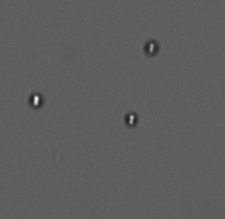Living Cell: (141, 39, 160, 56), (28, 92, 44, 109), (123, 112, 139, 128)
